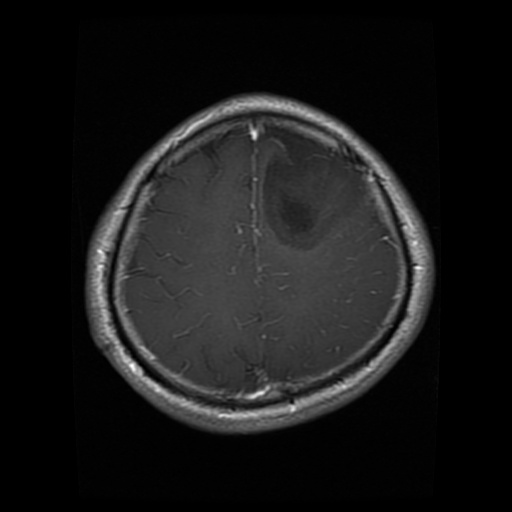glioma: (263, 132, 365, 250)
